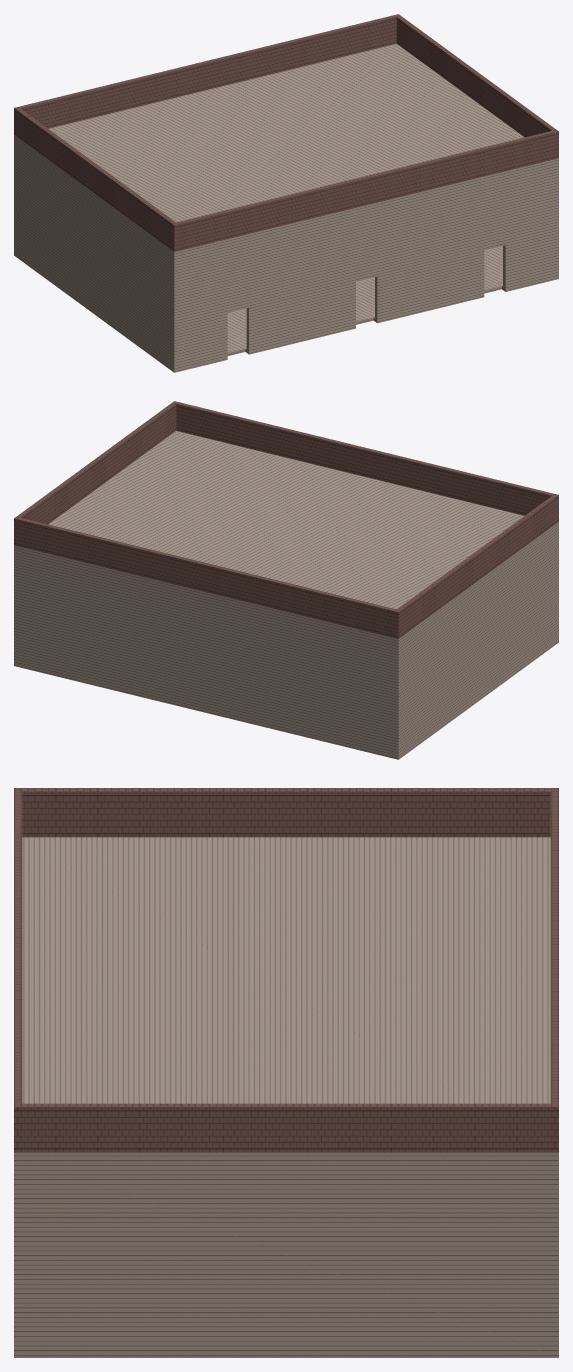
The model's file is rowhouse_townhouse.glb.
3 views of the same model, one above another, from view 1: azimuth 30°, elevation 25°; view 2: azimuth 150°, elevation 25°; view 3: azimuth 270°, elevation 25° (orthographic). The views are drawn at different scales.
Visible parts, largest first — view 1: rowhouse_townhouse-col; view 2: rowhouse_townhouse-col; view 3: rowhouse_townhouse-col.
Part boxes in pixels (x1,y1,x2,y2): rowhouse_townhouse-col: (14, 14, 558, 372); rowhouse_townhouse-col: (14, 401, 558, 759); rowhouse_townhouse-col: (14, 788, 558, 1357).
Bounding box in the file's own units: 18 × 6.6 × 13.
2 materials, 2 textured.
